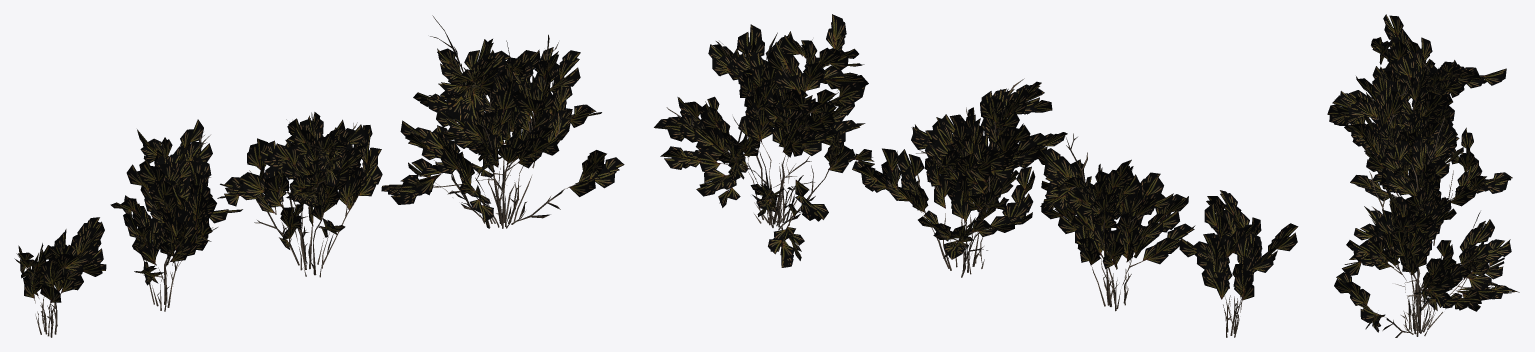
Rendered from lg-p-bush.glb.
3 views of the same model, side by side, from view 1: azimuth 30°, elevation 25°; view 2: azimuth 150°, elevation 25°; view 3: azimuth 270°, elevation 25° (orthographic). The views are drawn at different scales.
Parts seen in each view (by area): view 1: wild_rooibos_bush_b, wild_rooibos_bush_c, wild_rooibos_bush_d, wild_rooibos_bush_e; view 2: wild_rooibos_bush_b, wild_rooibos_bush_c, wild_rooibos_bush_d, wild_rooibos_bush_e; view 3: wild_rooibos_bush_b, wild_rooibos_bush_c, wild_rooibos_bush_d, wild_rooibos_bush_e.
Part boxes in pixels (x1,y1,x2,y2): wild_rooibos_bush_b: (381,15,624,228); wild_rooibos_bush_c: (217,112,382,277); wild_rooibos_bush_d: (110,119,242,311); wild_rooibos_bush_e: (14,217,106,337); wild_rooibos_bush_b: (654,14,874,267); wild_rooibos_bush_c: (852,78,1067,277); wild_rooibos_bush_d: (1035,133,1195,311); wild_rooibos_bush_e: (1179,190,1298,337); wild_rooibos_bush_b: (1334,115,1519,337); wild_rooibos_bush_c: (1327,73,1512,245); wild_rooibos_bush_d: (1356,37,1506,175); wild_rooibos_bush_e: (1371,14,1435,104).
Bounding box in the file's own units: 1.62 × 0.5404 × 0.4913.
2 materials, 2 textured.
